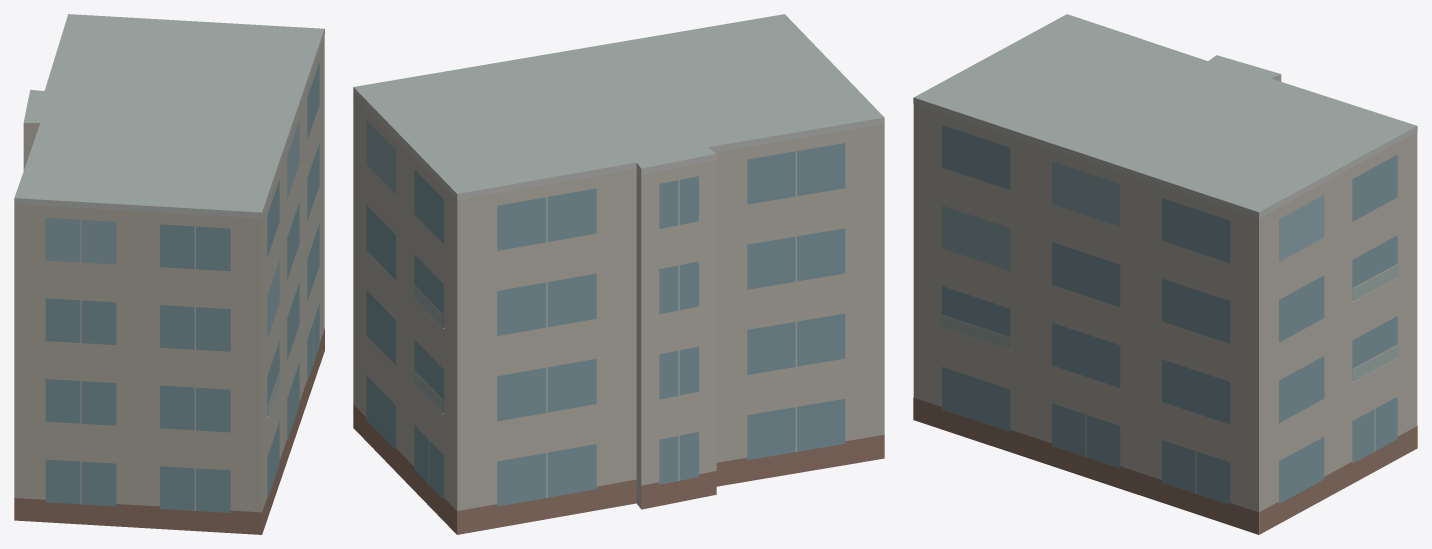
File: survey-upis-32574546.glb
The picture shows the model from 3 angles, left to right: view 1: azimuth 30°, elevation 25°; view 2: azimuth 150°, elevation 25°; view 3: azimuth 270°, elevation 25°; orthographic projection. The views are drawn at different scales.
Visible parts, largest first — view 1: survey-upis-32574546.tmp; view 2: survey-upis-32574546.tmp; view 3: survey-upis-32574546.tmp.
Boxes of the visible parts, x1=… form: survey-upis-32574546.tmp: x1=14, y1=14, x2=324, y2=534; survey-upis-32574546.tmp: x1=353, y1=14, x2=884, y2=534; survey-upis-32574546.tmp: x1=913, y1=14, x2=1417, y2=534.
Size of the model in its own units: 17.02 by 12.9 by 18.27.
